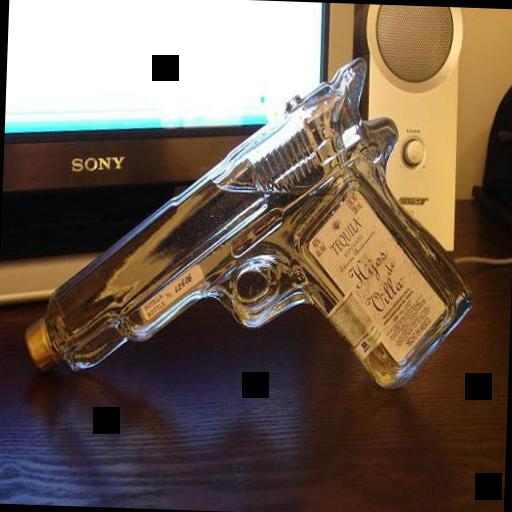Handgun: (19, 44, 477, 392)
